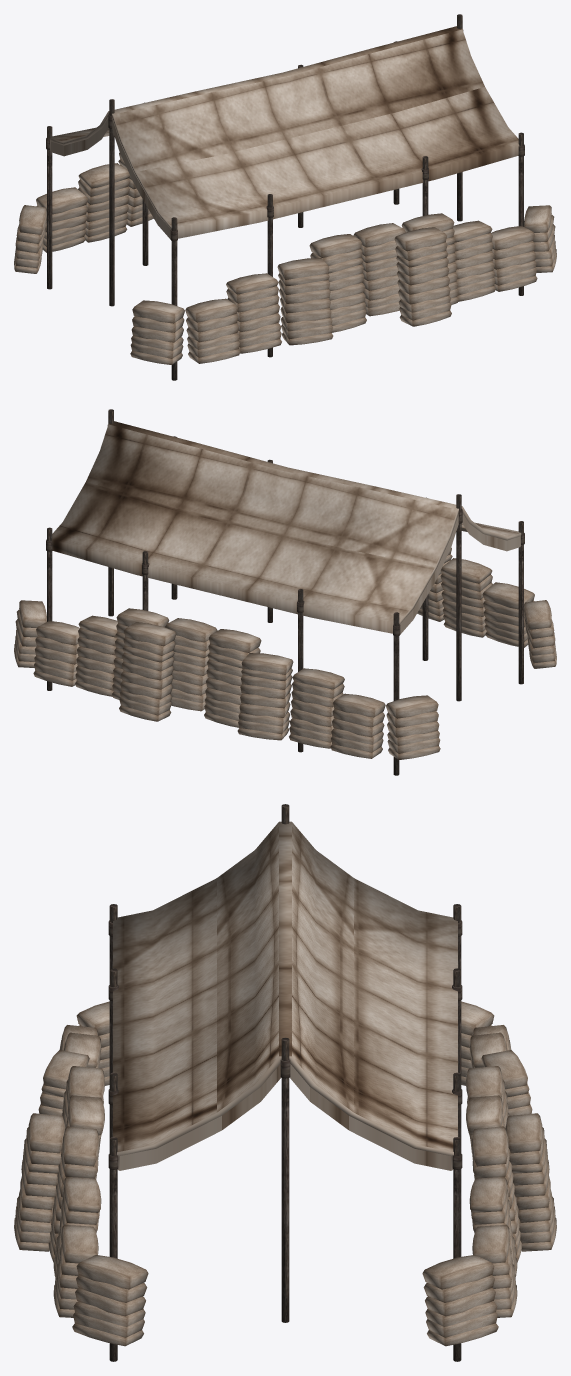
Rendered from storehouse.dae.
The picture shows the model from 3 angles, top to bottom: view 1: azimuth 30°, elevation 25°; view 2: azimuth 150°, elevation 25°; view 3: azimuth 270°, elevation 25°; orthographic projection. The views are drawn at different scales.
Parts seen in each view (by area): view 1: storehouse.001; view 2: storehouse.001; view 3: storehouse.001.
Boxes of the visible parts, <box> form: storehouse.001: <box>14,14,556,380</box>; storehouse.001: <box>14,409,556,775</box>; storehouse.001: <box>14,804,556,1361</box>.
Bounding box in the file's own units: 21.58 × 17.29 × 11.29.
